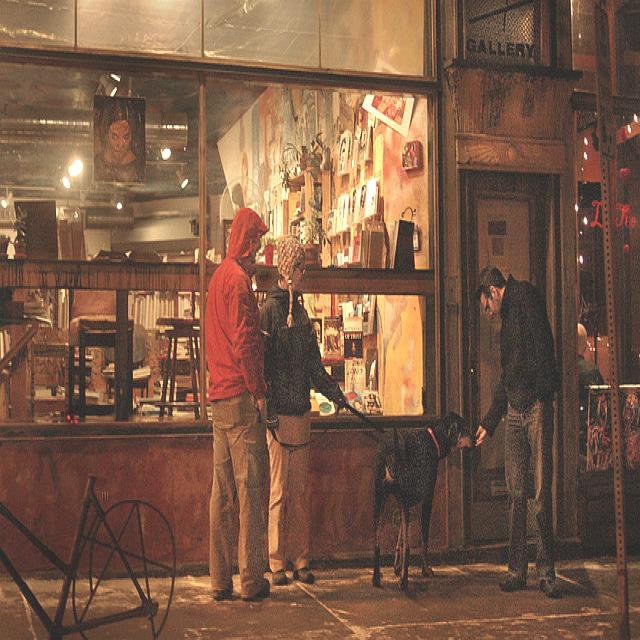Dog: (347, 392, 508, 600)
